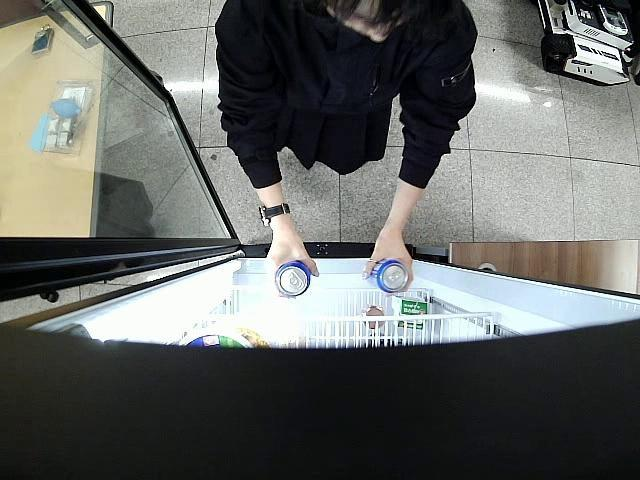13_pocariSweat: (366, 258, 408, 292), (275, 261, 310, 298)
